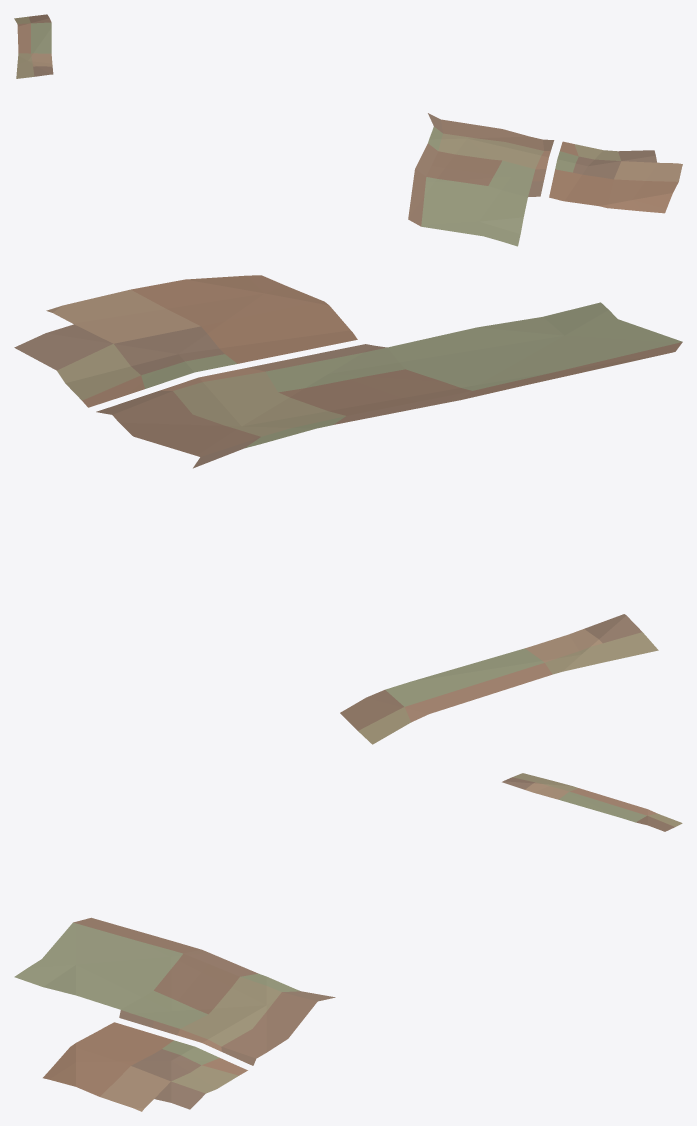
Rendered from farm_-29_-33_soil.glb.
The picture shows the model from 3 angles, top to bottom: view 1: azimuth 30°, elevation 25°; view 2: azimuth 150°, elevation 25°; view 3: azimuth 270°, elevation 25°; orthographic projection. The views are drawn at different scales.
Parts seen in each view (by area): view 1: geometry_0; view 2: geometry_0; view 3: geometry_0.
Part boxes in pixels (bbox=[...]): geometry_0: bbox=[14, 14, 682, 246]; geometry_0: bbox=[14, 275, 682, 744]; geometry_0: bbox=[14, 773, 682, 1111].
Size of the model in its own units: 512 by 81.01 by 561.
